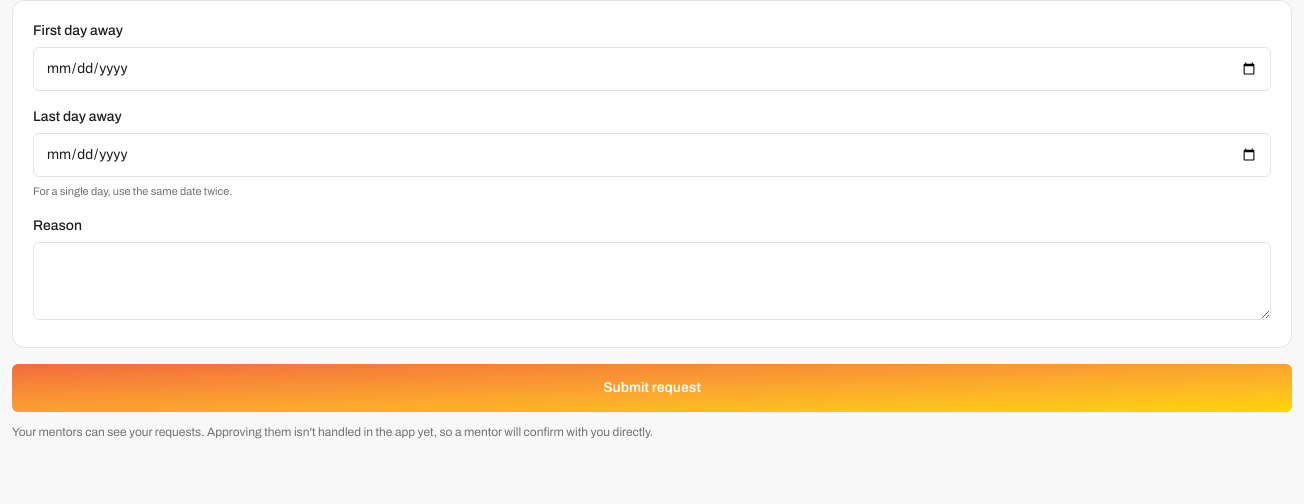
submitting a request › shows a server failure as an alert and keeps what was typed
This screenshot has width=1304, height=504.
Type "2026-08-06" into the date field labelled "First day away" at {"x": 652, "y": 69}, box [33,47,1271,91]
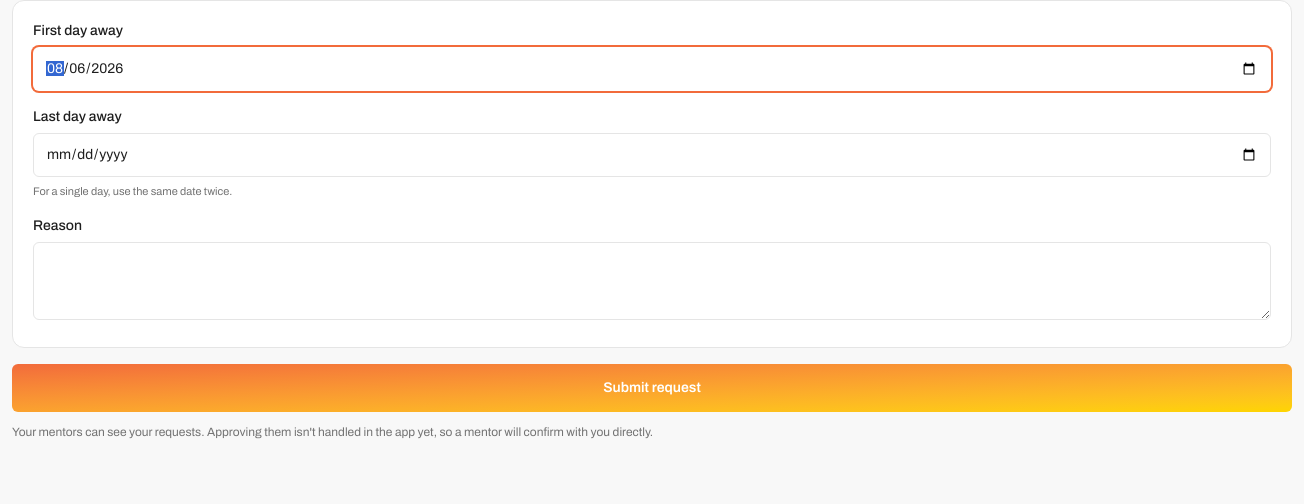
Type "2026-08-07" into the date field labelled "Last day away" at {"x": 652, "y": 155}, box [33,133,1271,177]
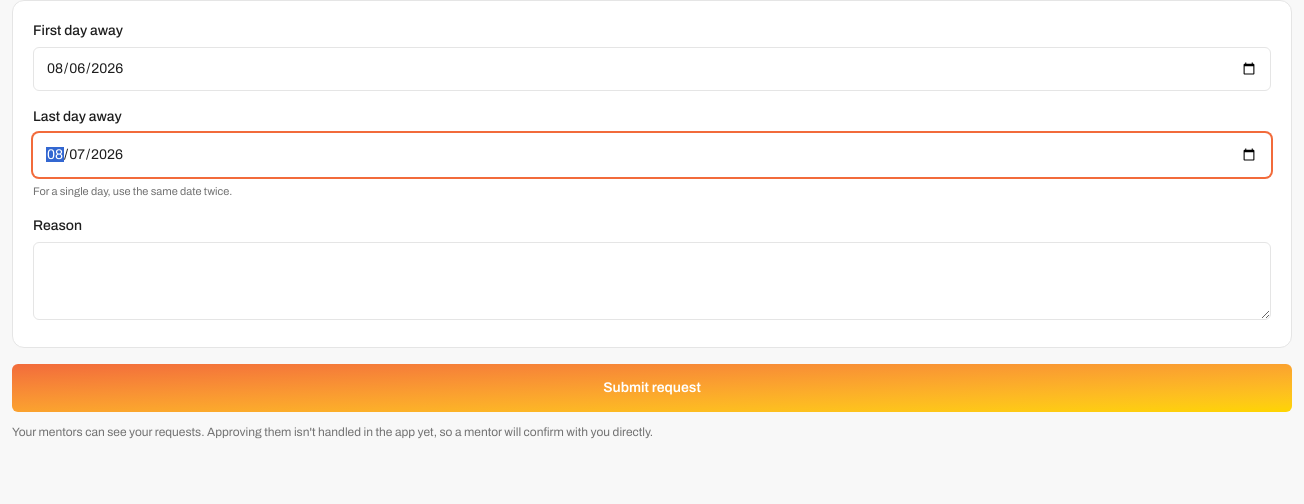
Type "Family event" into the text box labelled "Reason" at {"x": 652, "y": 280}, box [33,242,1271,320]
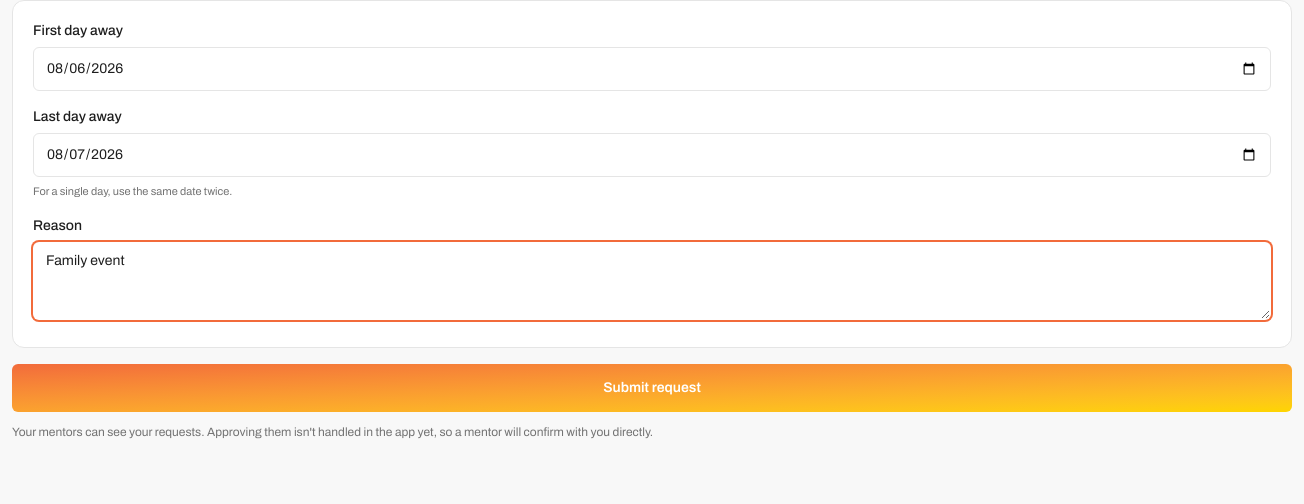
Click the button "Submit request" at {"x": 652, "y": 388}, box [12,364,1292,412]
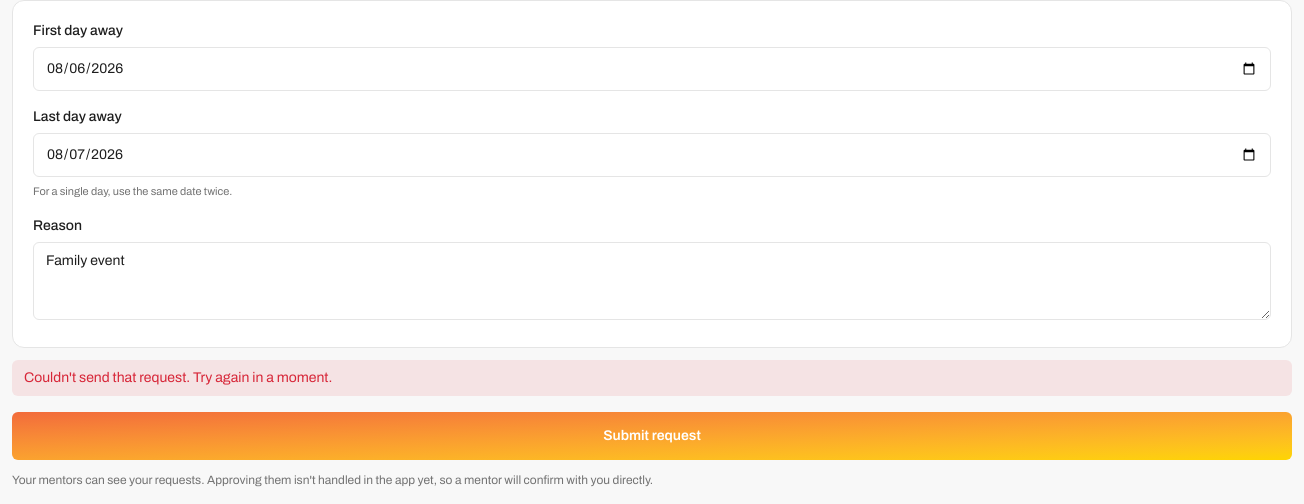
Now the message shows "Couldn't send", box [24,370,332,384]
